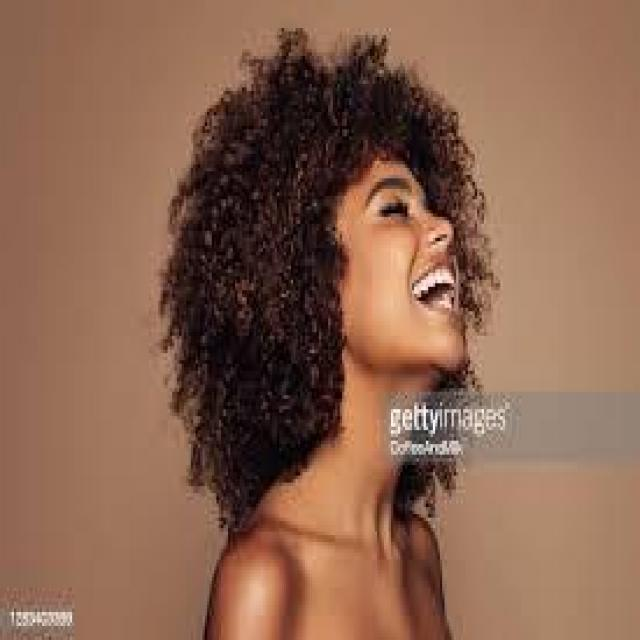person: (142, 24, 500, 636)
